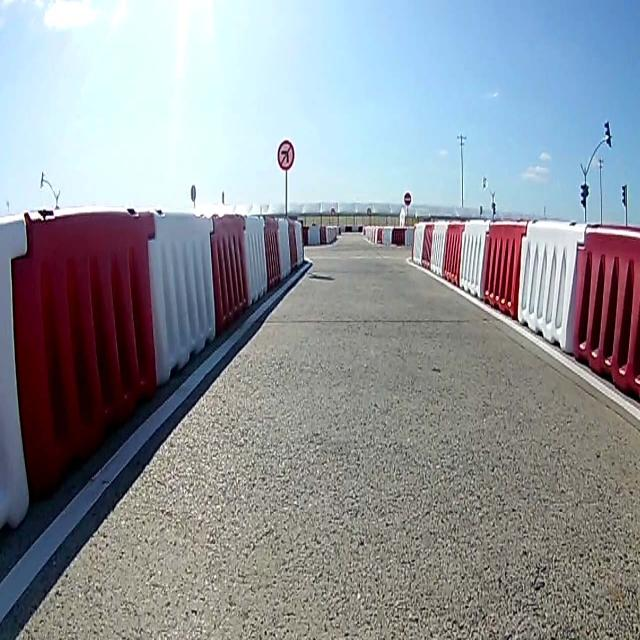girisyok: (403, 190, 411, 206)
soladonulmez: (276, 139, 294, 170)
